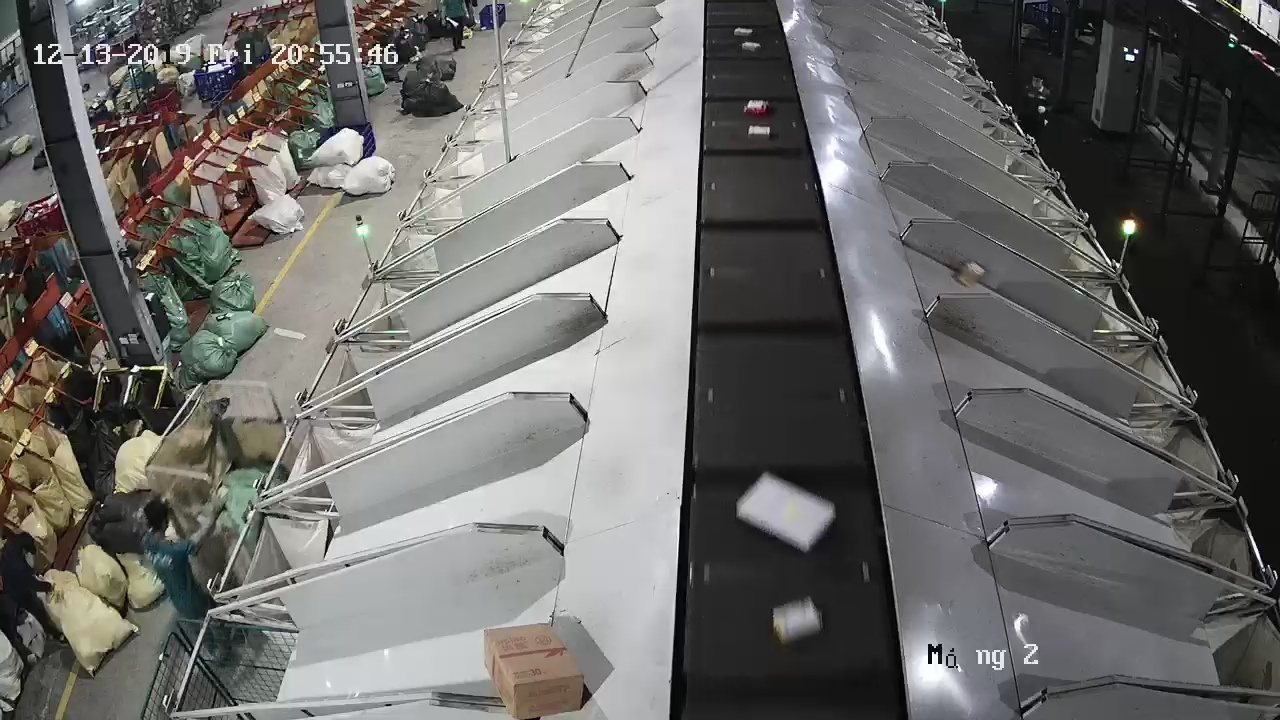parcel: (955, 259, 986, 288)
